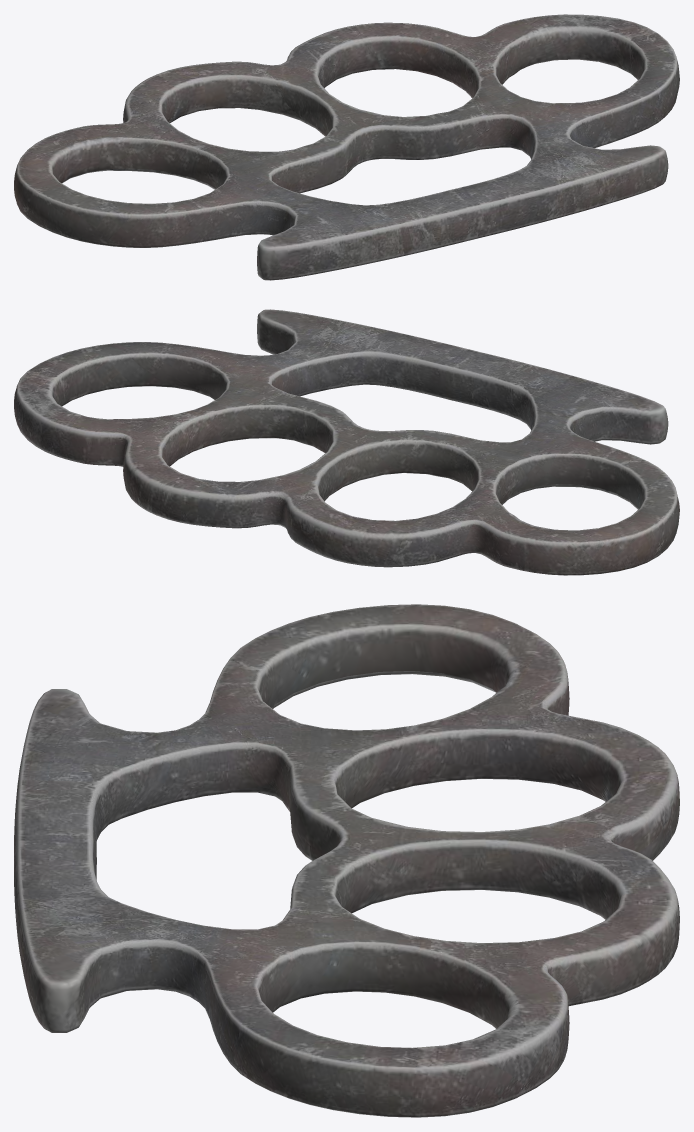
3 renders of one model, top to bottom at view 1: azimuth 30°, elevation 25°; view 2: azimuth 150°, elevation 25°; view 3: azimuth 270°, elevation 25°, orthographic. The views are drawn at different scales.
Visible parts, largest first — view 1: BRASS-KNUCKLES; view 2: BRASS-KNUCKLES; view 3: BRASS-KNUCKLES.
Boxes of the visible parts, left/top/right/bottom form: BRASS-KNUCKLES: left=14, top=14, right=679, bottom=280; BRASS-KNUCKLES: left=14, top=309, right=679, bottom=575; BRASS-KNUCKLES: left=14, top=604, right=679, bottom=1117.
Size of the model in its own units: 0.1 by 0.005 by 0.06.
1 material, 1 textured.
